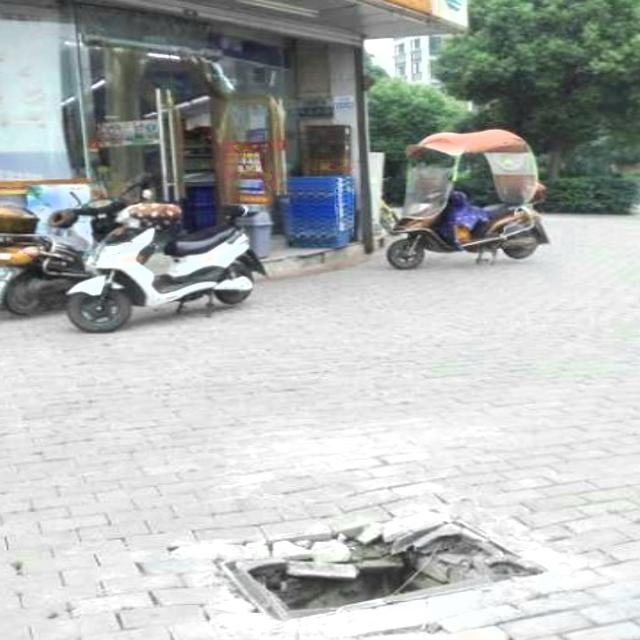broke: (214, 509, 551, 628)
